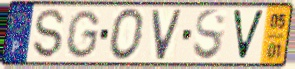G: (63, 9, 102, 60)
O: (108, 7, 147, 62)
S: (191, 7, 227, 63), (32, 7, 66, 60)
V: (230, 8, 267, 62), (150, 7, 185, 62)
